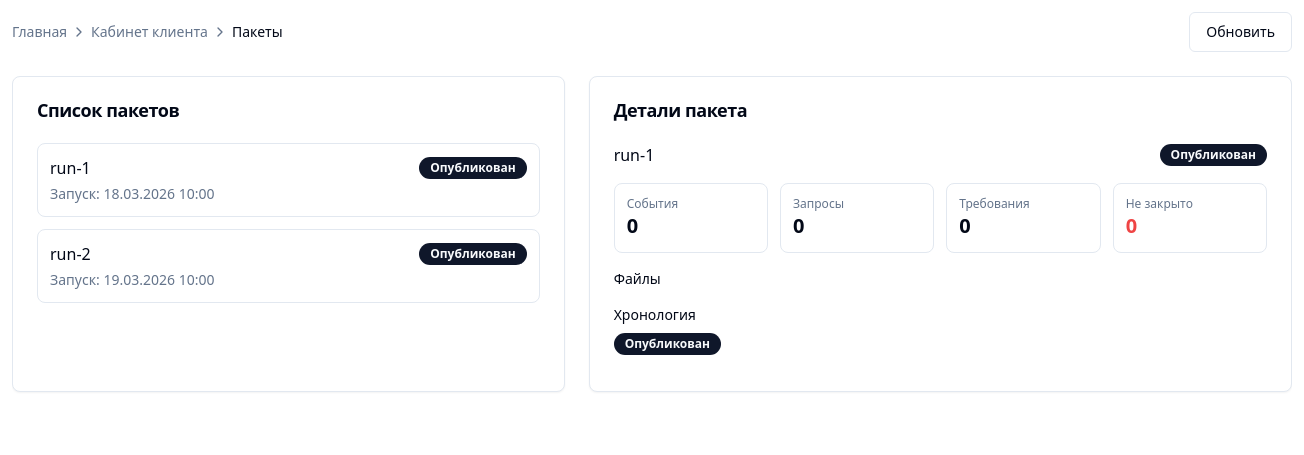
Test: ClientPortalPackagesPage › клик по пакету грузит детали по package_id (а не по служебному id read-model)
Click the button "run-2".
click(70, 254)  # box 37,229 -> 540,303
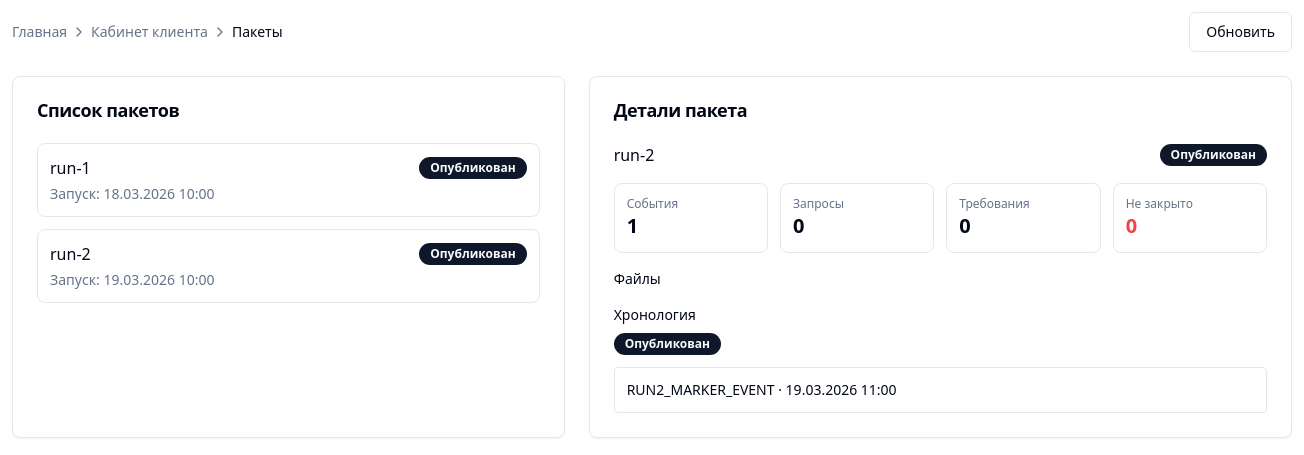
Expected: the text "RUN2_MARKER_EVENT · 19.03.2026 11:00" is shown, 614,367 -> 1267,413
